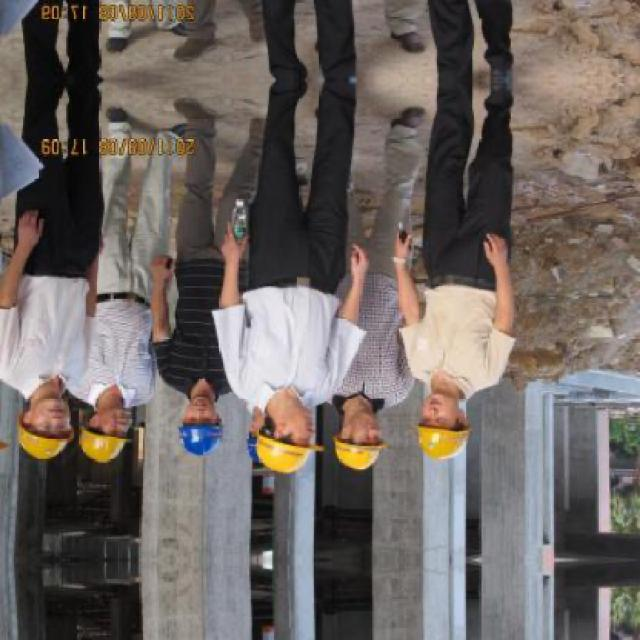con casco: (3, 380, 76, 472), (224, 395, 303, 474), (157, 403, 241, 474), (307, 420, 395, 485), (398, 396, 480, 458), (58, 411, 134, 476)
